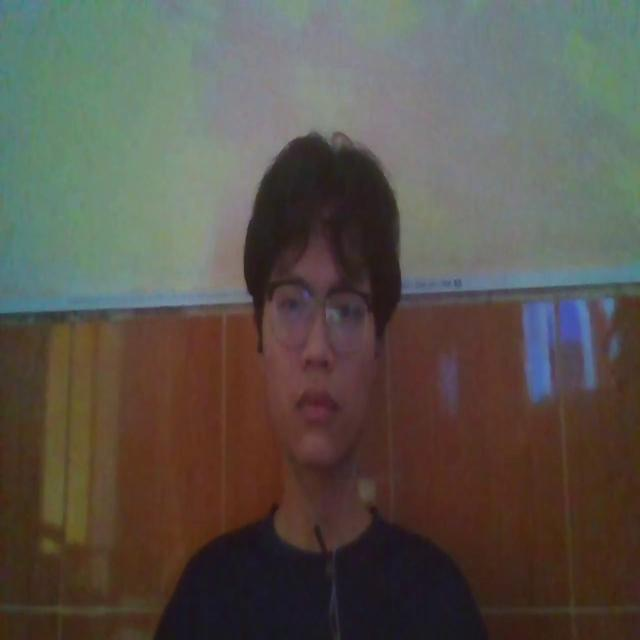student: (138, 122, 484, 640)
